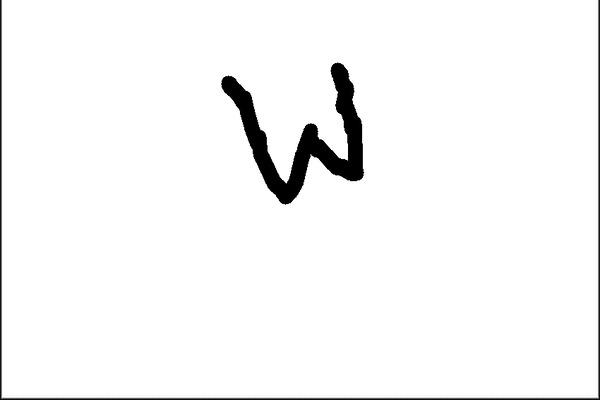w: (209, 56, 376, 206)
